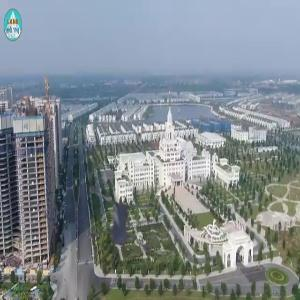drone: (52, 160, 174, 282)
